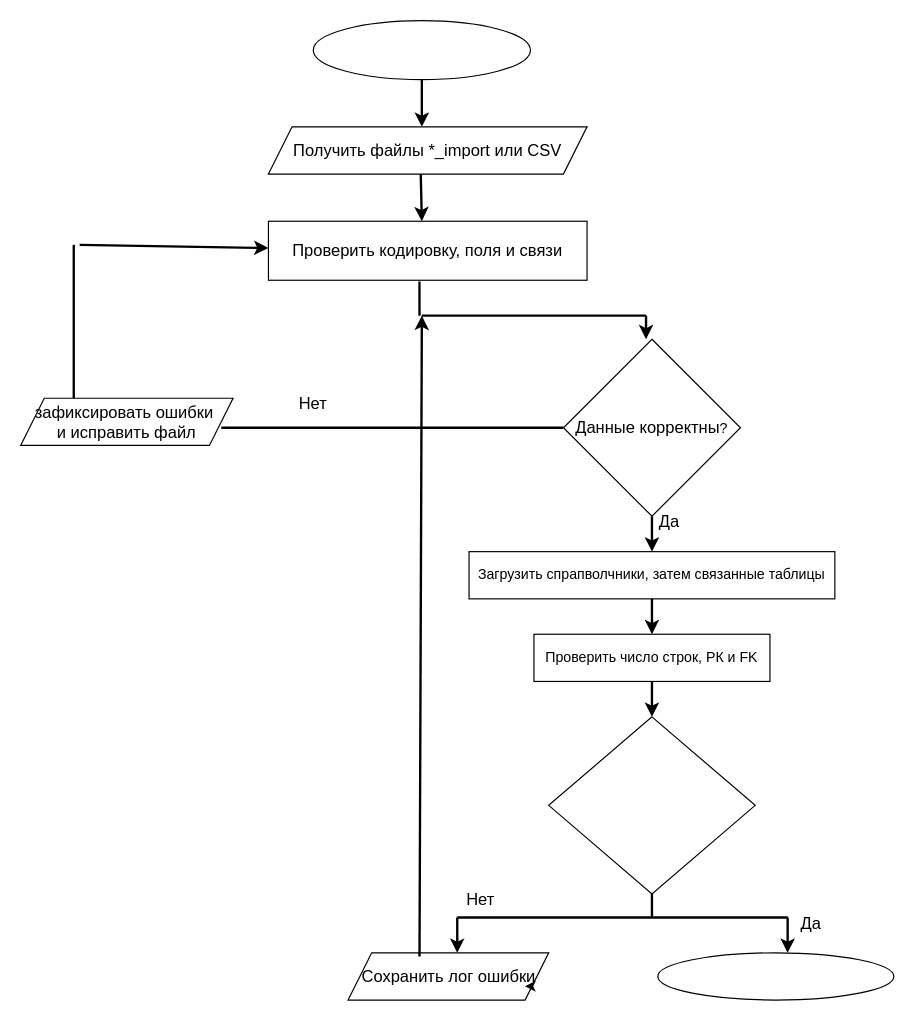
The diagram is 914 pixels wide and 1021 high, and some of its shapes have lost their labels. The shapes that lost their labels are listed below. From the top down, each one's centre as x and y in pixels, then its label:
the point at 421,49: начало
the point at 651,805: Импорт успешен?
the point at 775,976: Данные в БД готовы
